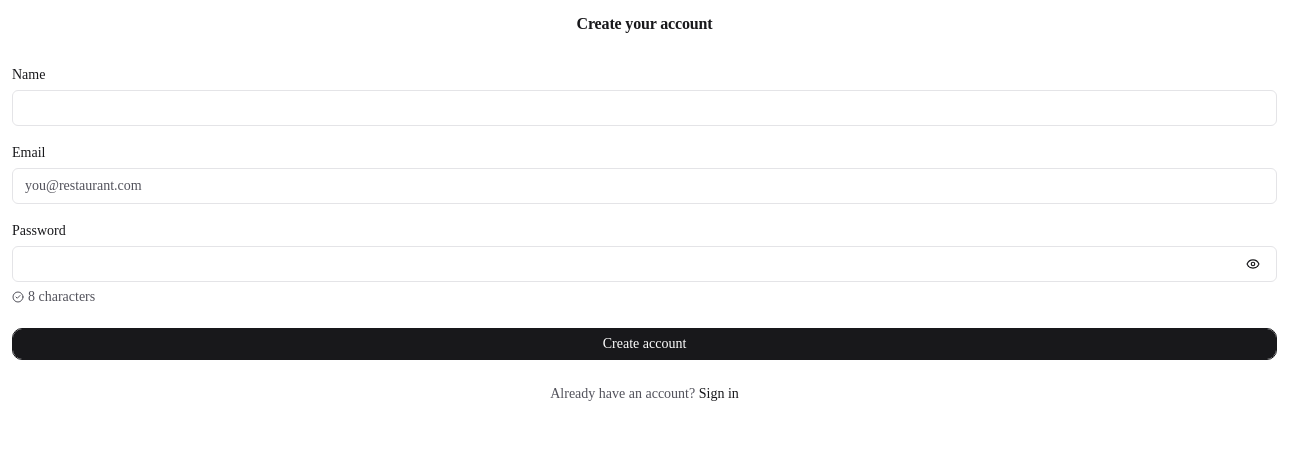
Test case: signup Turnstile › asks for a fresh token after a refused submit
This screenshot has width=1292, height=454.
Type "Cook" into the field labelled "Name" at (644, 108), box x1=12 y1=90 x2=1277 y2=126
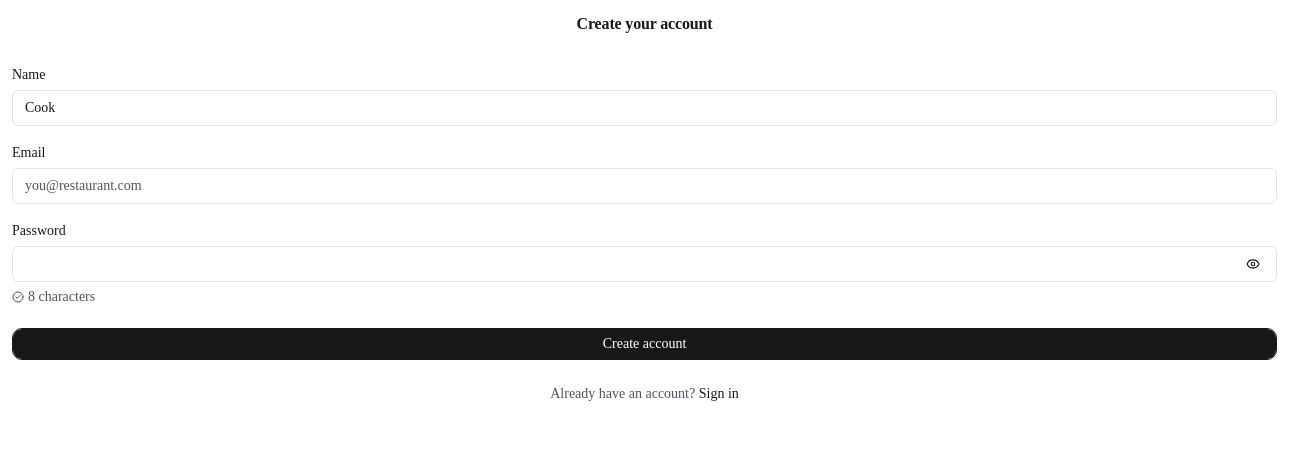
Type "cook@example.test" into the field labelled "Email" at (644, 186), box x1=12 y1=168 x2=1277 y2=204
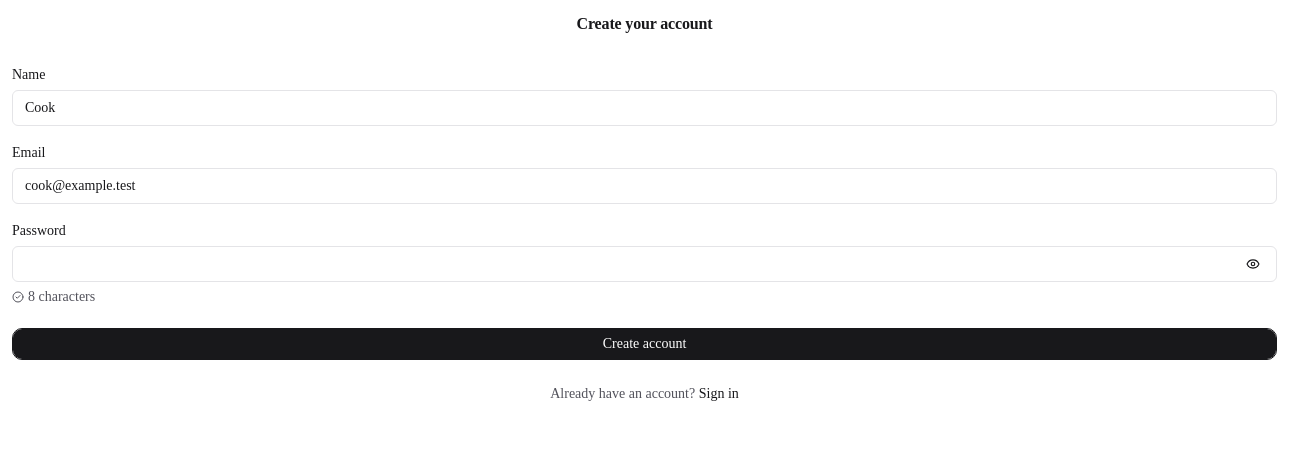
Type "longenough" into the password field labelled "Password" at (644, 264), box x1=12 y1=246 x2=1277 y2=282
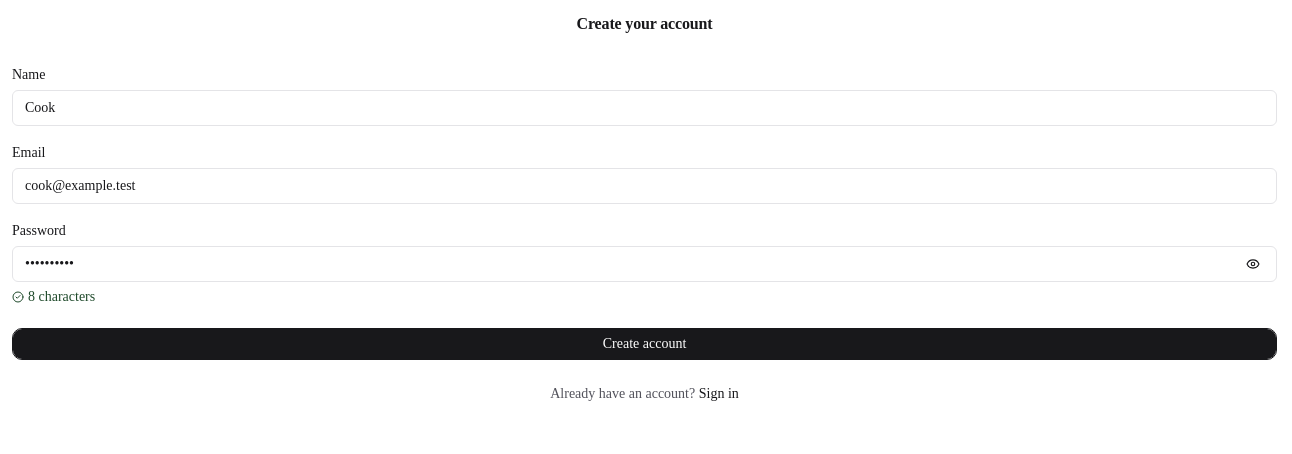
Click the button "Create account" at (644, 344), box x1=12 y1=328 x2=1277 y2=360
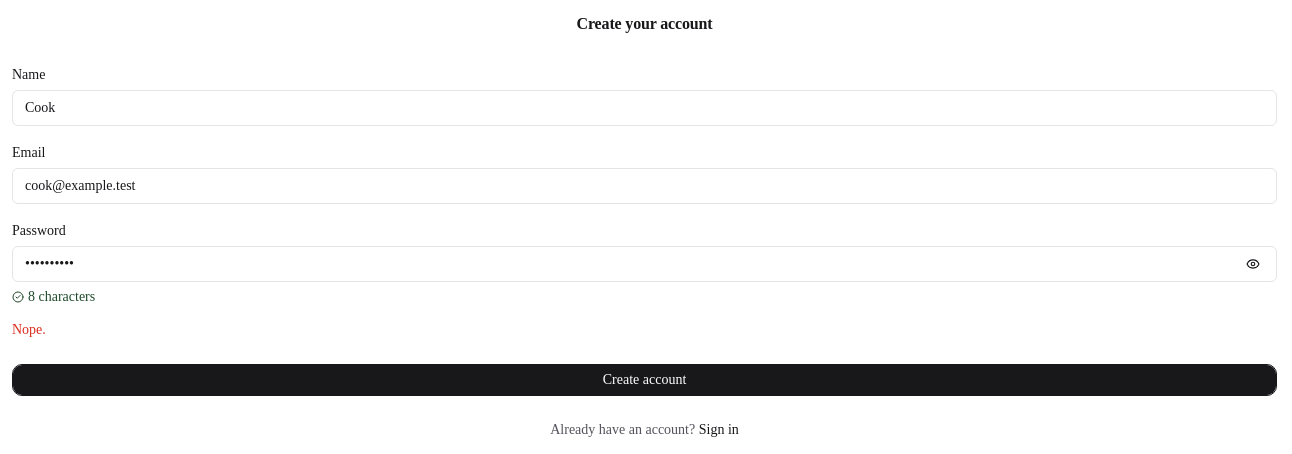
Expected: the message reads "Nope.", x1=12 y1=322 x2=46 y2=337
